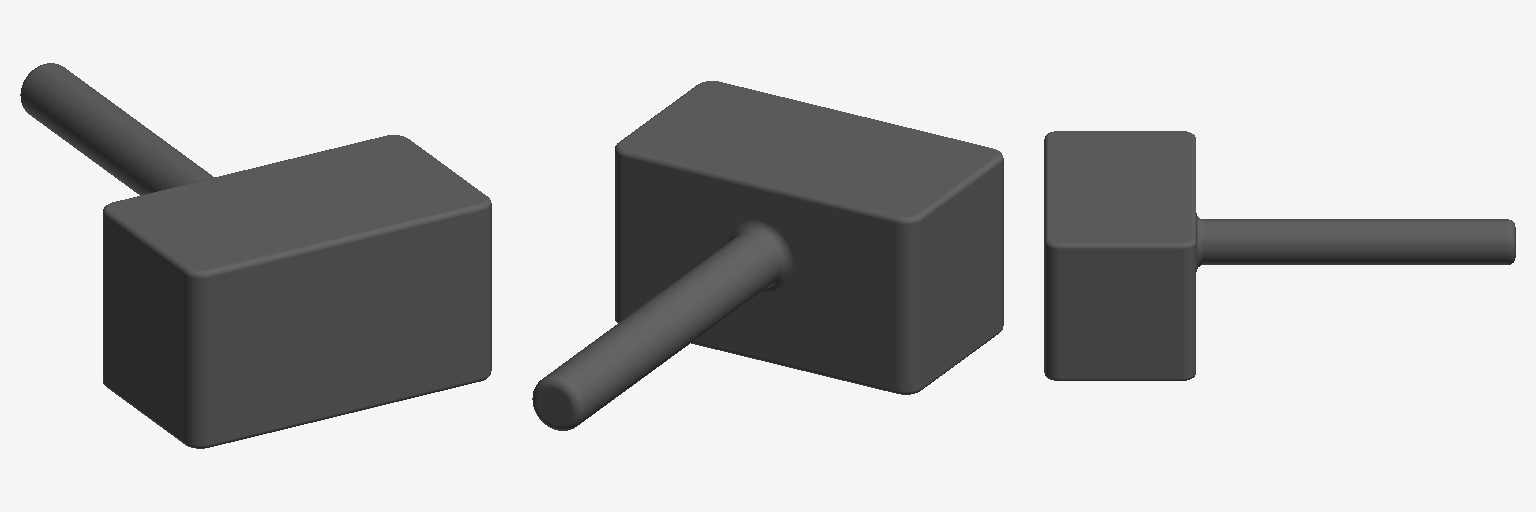
robot.urdf — coil:
<?xml version="1.0"?>
<robot name="coil">
  <link name="world"/>
  <joint name="fixed" type="fixed">
    <parent link="world"/>
    <child link="coil_link"/>
    <origin xyz="0 0 0" rpy="0 0 0"/>
  </joint>
  <link name="coil_link">
    <visual>
      <geometry>
        <mesh filename="../meshes/coil/coil_holder_fs_w_mcf_b65.stl" scale="0.001 0.001 0.001"/>
      </geometry>
      <material name="grey">
        <color rgba="0.4 0.4 0.4 1.0"/>
      </material>
    </visual>
    <collision>
      <geometry>
        <mesh filename="../meshes/coil/coil_holder_fs_w_mcf_b65.stl" scale="0.001 0.001 0.001"/>
      </geometry>
    </collision>
    <inertial>
      <mass value="0.8"/>
      <inertia ixx="0.001" ixy="0" ixz="0" iyy="0.001" iyz="0" izz="0.001"/>
    </inertial>
  </link>
</robot>

--- Render facts (derived) ---
Views: 3 orthographic renders of the robot side by side, from view 1: azimuth 30°, elevation 25°; view 2: azimuth 150°, elevation 25°; view 3: azimuth 270°, elevation 25°.
Model coil with 2 links and 1 joints (1 fixed), rooted at world, posed every joint at zero.
Visible links, largest first — view 1: coil_link; view 2: coil_link; view 3: coil_link.
Boxes of the visible links, x1,y1,x2,y2 form: coil_link: (20,63,491,448); coil_link: (532,81,1003,430); coil_link: (1044,131,1515,380).
Bounding box of the posed robot: 0.18 × 0.31 × 0.1 m (x, y, z).
Meshes: 1 distinct files referenced, 1 mesh visuals loaded (1 binary STL).
